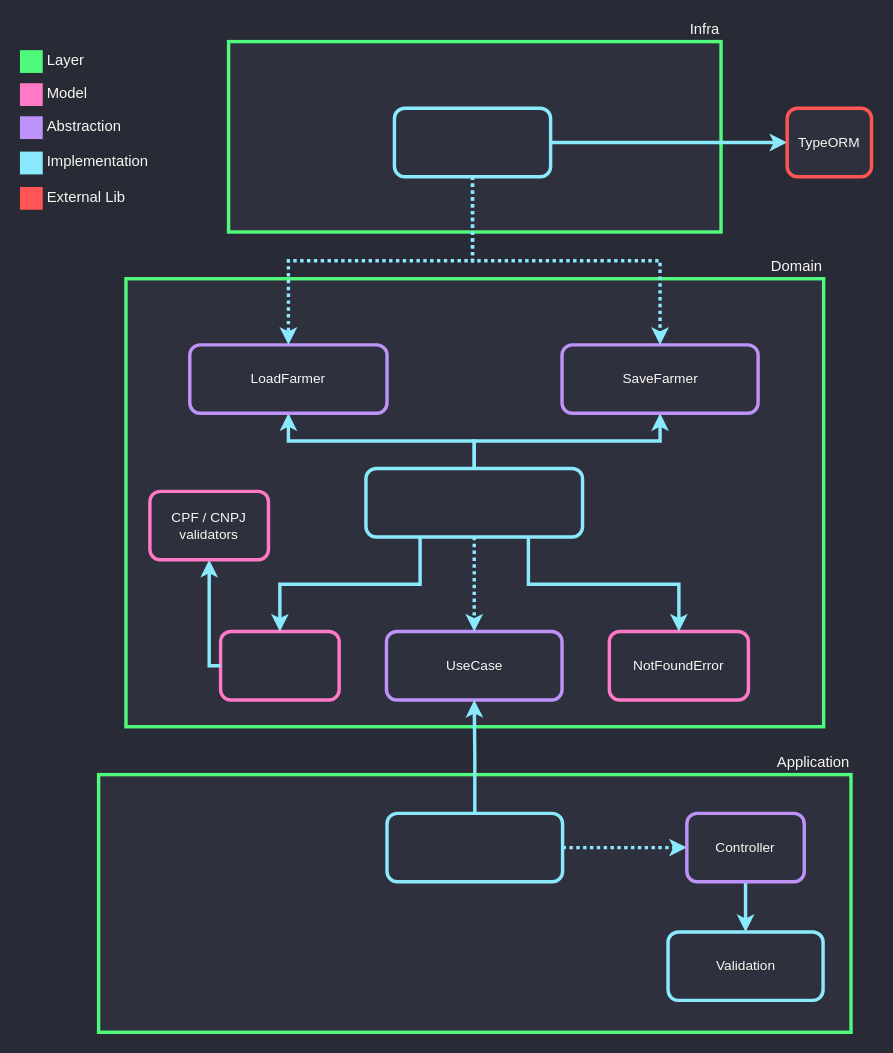
This 893x1053 diagram has some shape labels left out. The shapes that lost their labels are listed below. From the top down, each one's centre as x and y in pixels, then its label:
[472,142]: FarmerRepo
[474,502]: EditFarmerUseCase
[279,665]: Farmer
[474,847]: EditFarmerController
